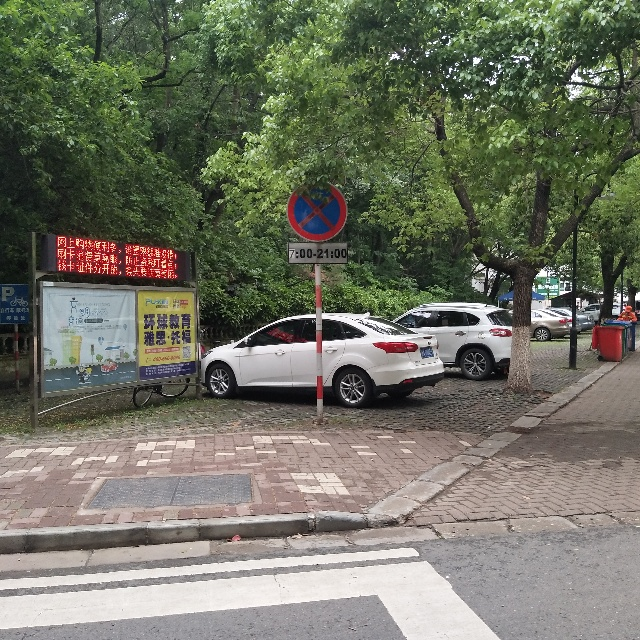stop: (299, 185, 341, 237)
